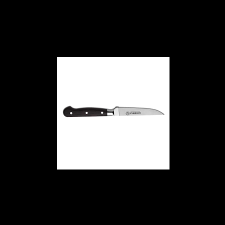k1: (102, 103, 166, 117)
